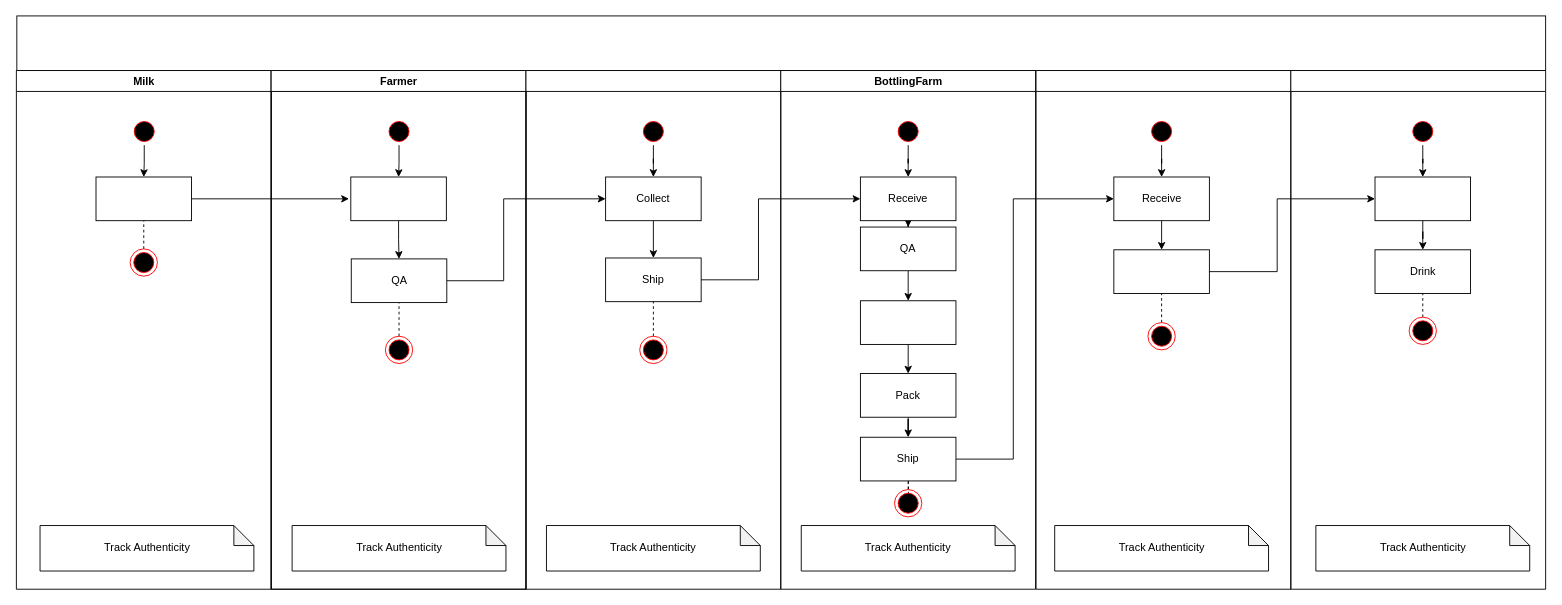
Some shapes in this 1562 by 605 pixel diagram are drawn without their labels. Each missing label, with the box of its shape:
Bottle: (859, 300, 956, 344)
Buy: (1374, 176, 1471, 221)
Consumer: (1290, 70, 1546, 589)
CowMilked: (95, 176, 192, 221)
Distributor: (1035, 70, 1291, 589)
MilkyCHAIN: (16, 15, 1546, 71)
Refrigerate: (350, 176, 446, 221)
Sell: (1113, 249, 1209, 293)
Transporter: (525, 70, 781, 589)
